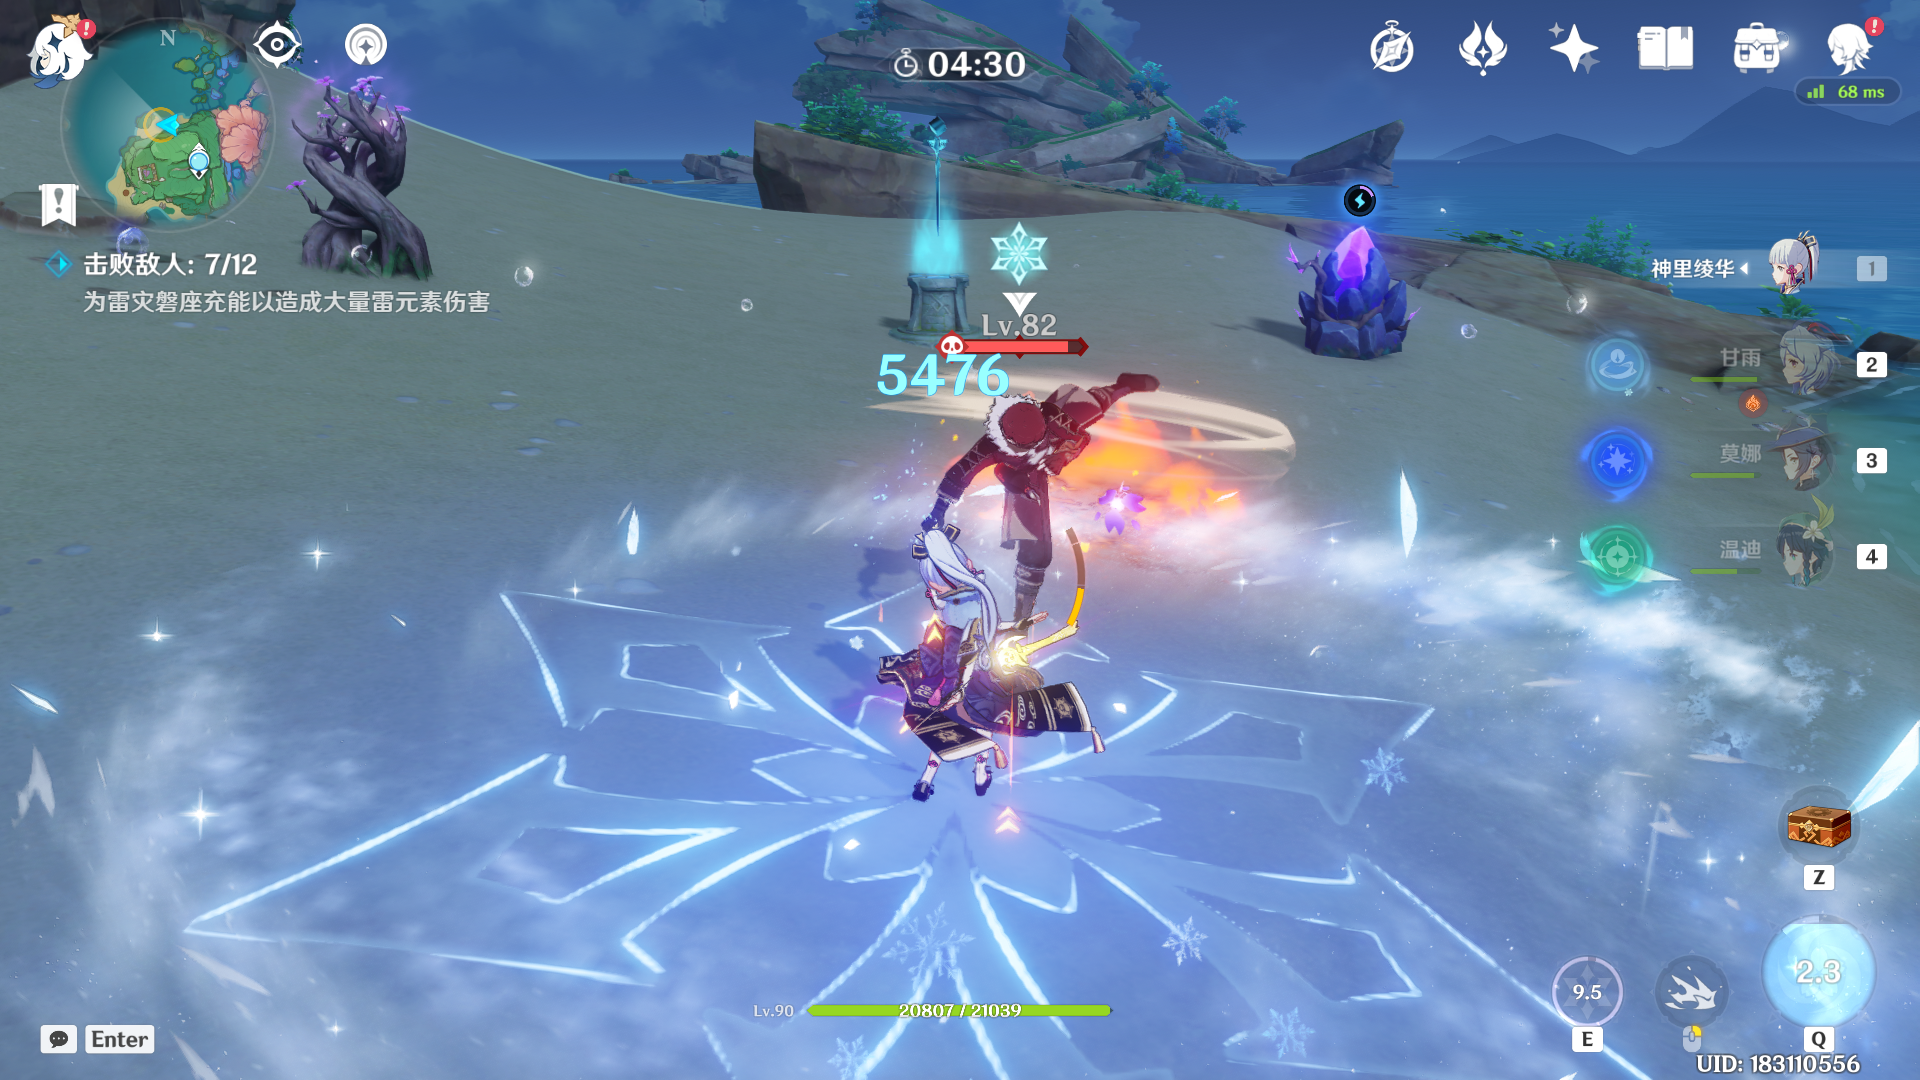character: (836, 524, 1116, 843)
